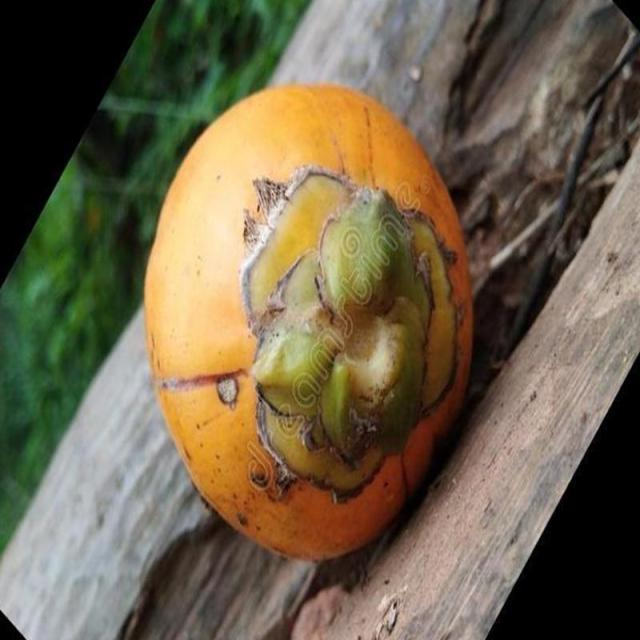good: (142, 82, 475, 567)
